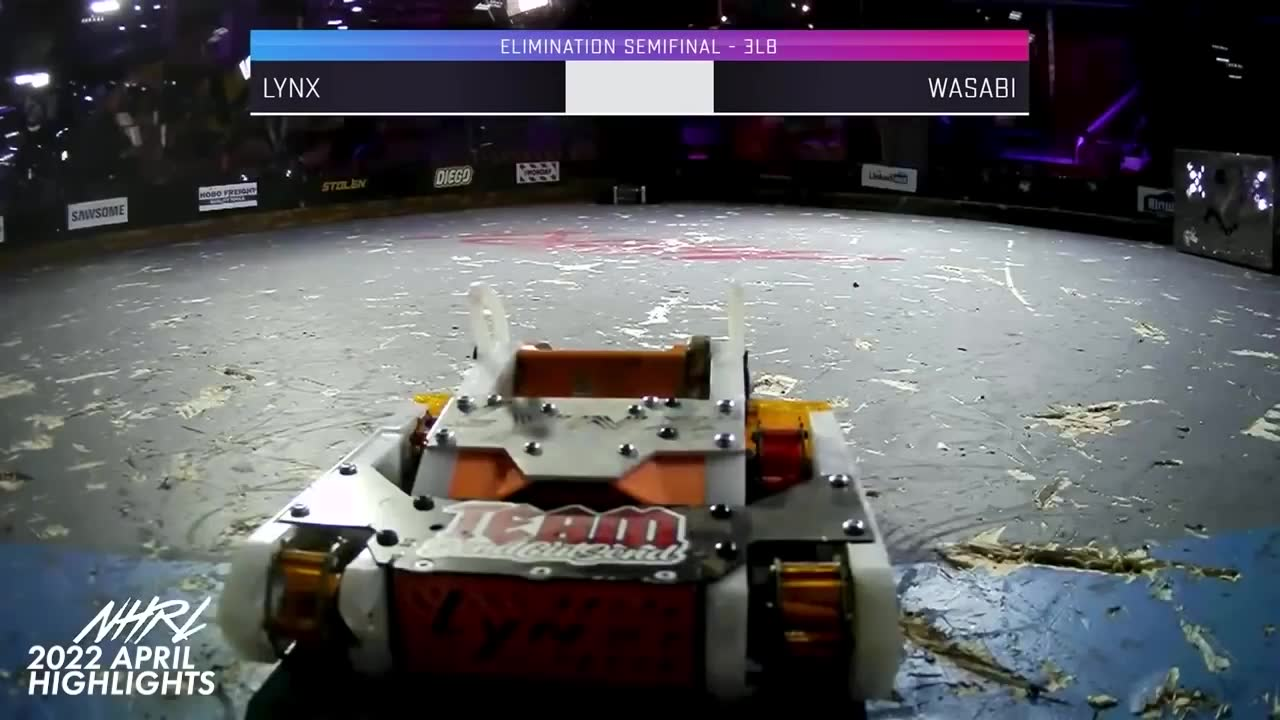combatbot: (219, 278, 908, 720), (599, 186, 653, 206)
housebot: (1170, 150, 1280, 275)
